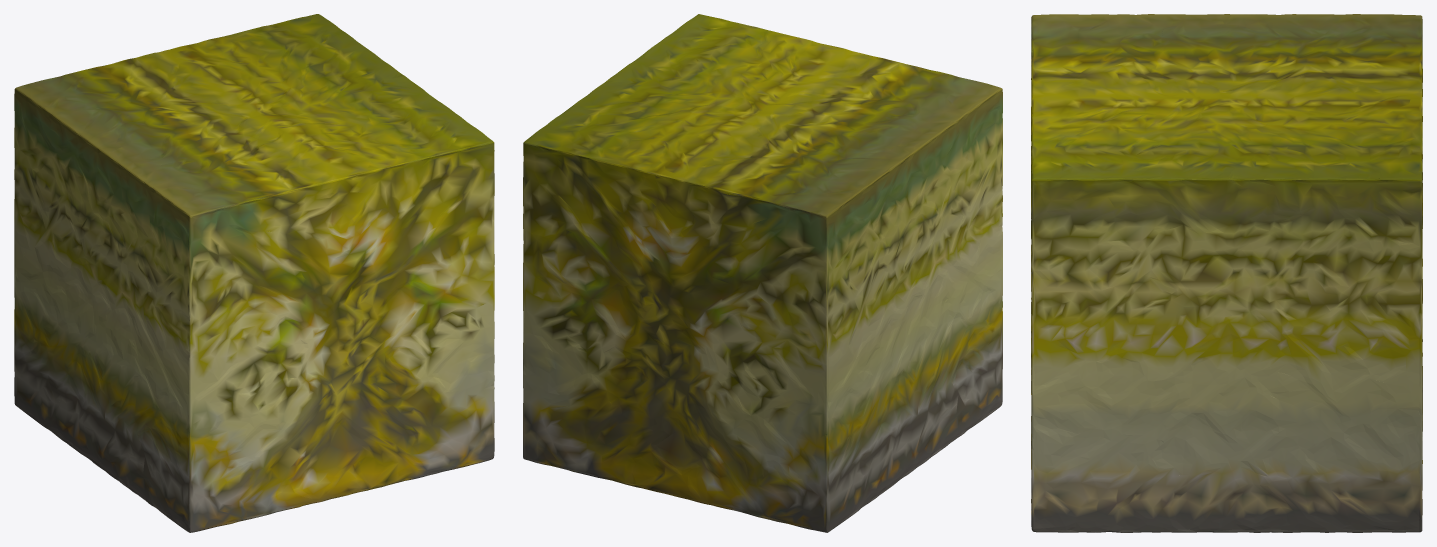
File: thiefLeader.glb
The picture shows the model from 3 angles, left to right: view 1: azimuth 30°, elevation 25°; view 2: azimuth 150°, elevation 25°; view 3: azimuth 270°, elevation 25°; orthographic projection. The views are drawn at different scales.
Visible parts, largest first — view 1: world; view 2: world; view 3: world.
Boxes of the visible parts, x1,y1,x2,y2 form: world: (14,14,494,532); world: (523,14,1002,532); world: (1031,14,1422,532).
Size of the model in its own units: 1 by 1 by 0.9995.
